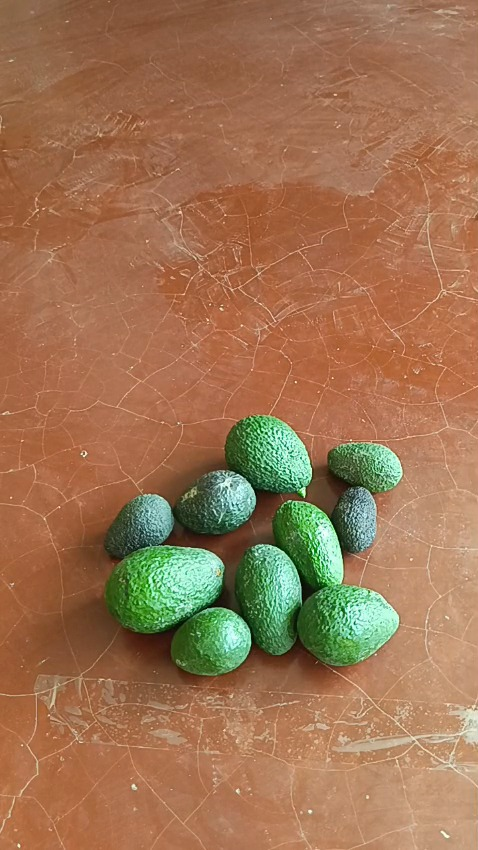Primera: (103, 544, 224, 632), (295, 582, 398, 665), (224, 415, 314, 495)
Segunda: (232, 544, 303, 655), (272, 500, 344, 590), (174, 468, 257, 534)
Tercera: (170, 607, 252, 676), (103, 492, 174, 559), (326, 441, 402, 492), (330, 485, 377, 553)
